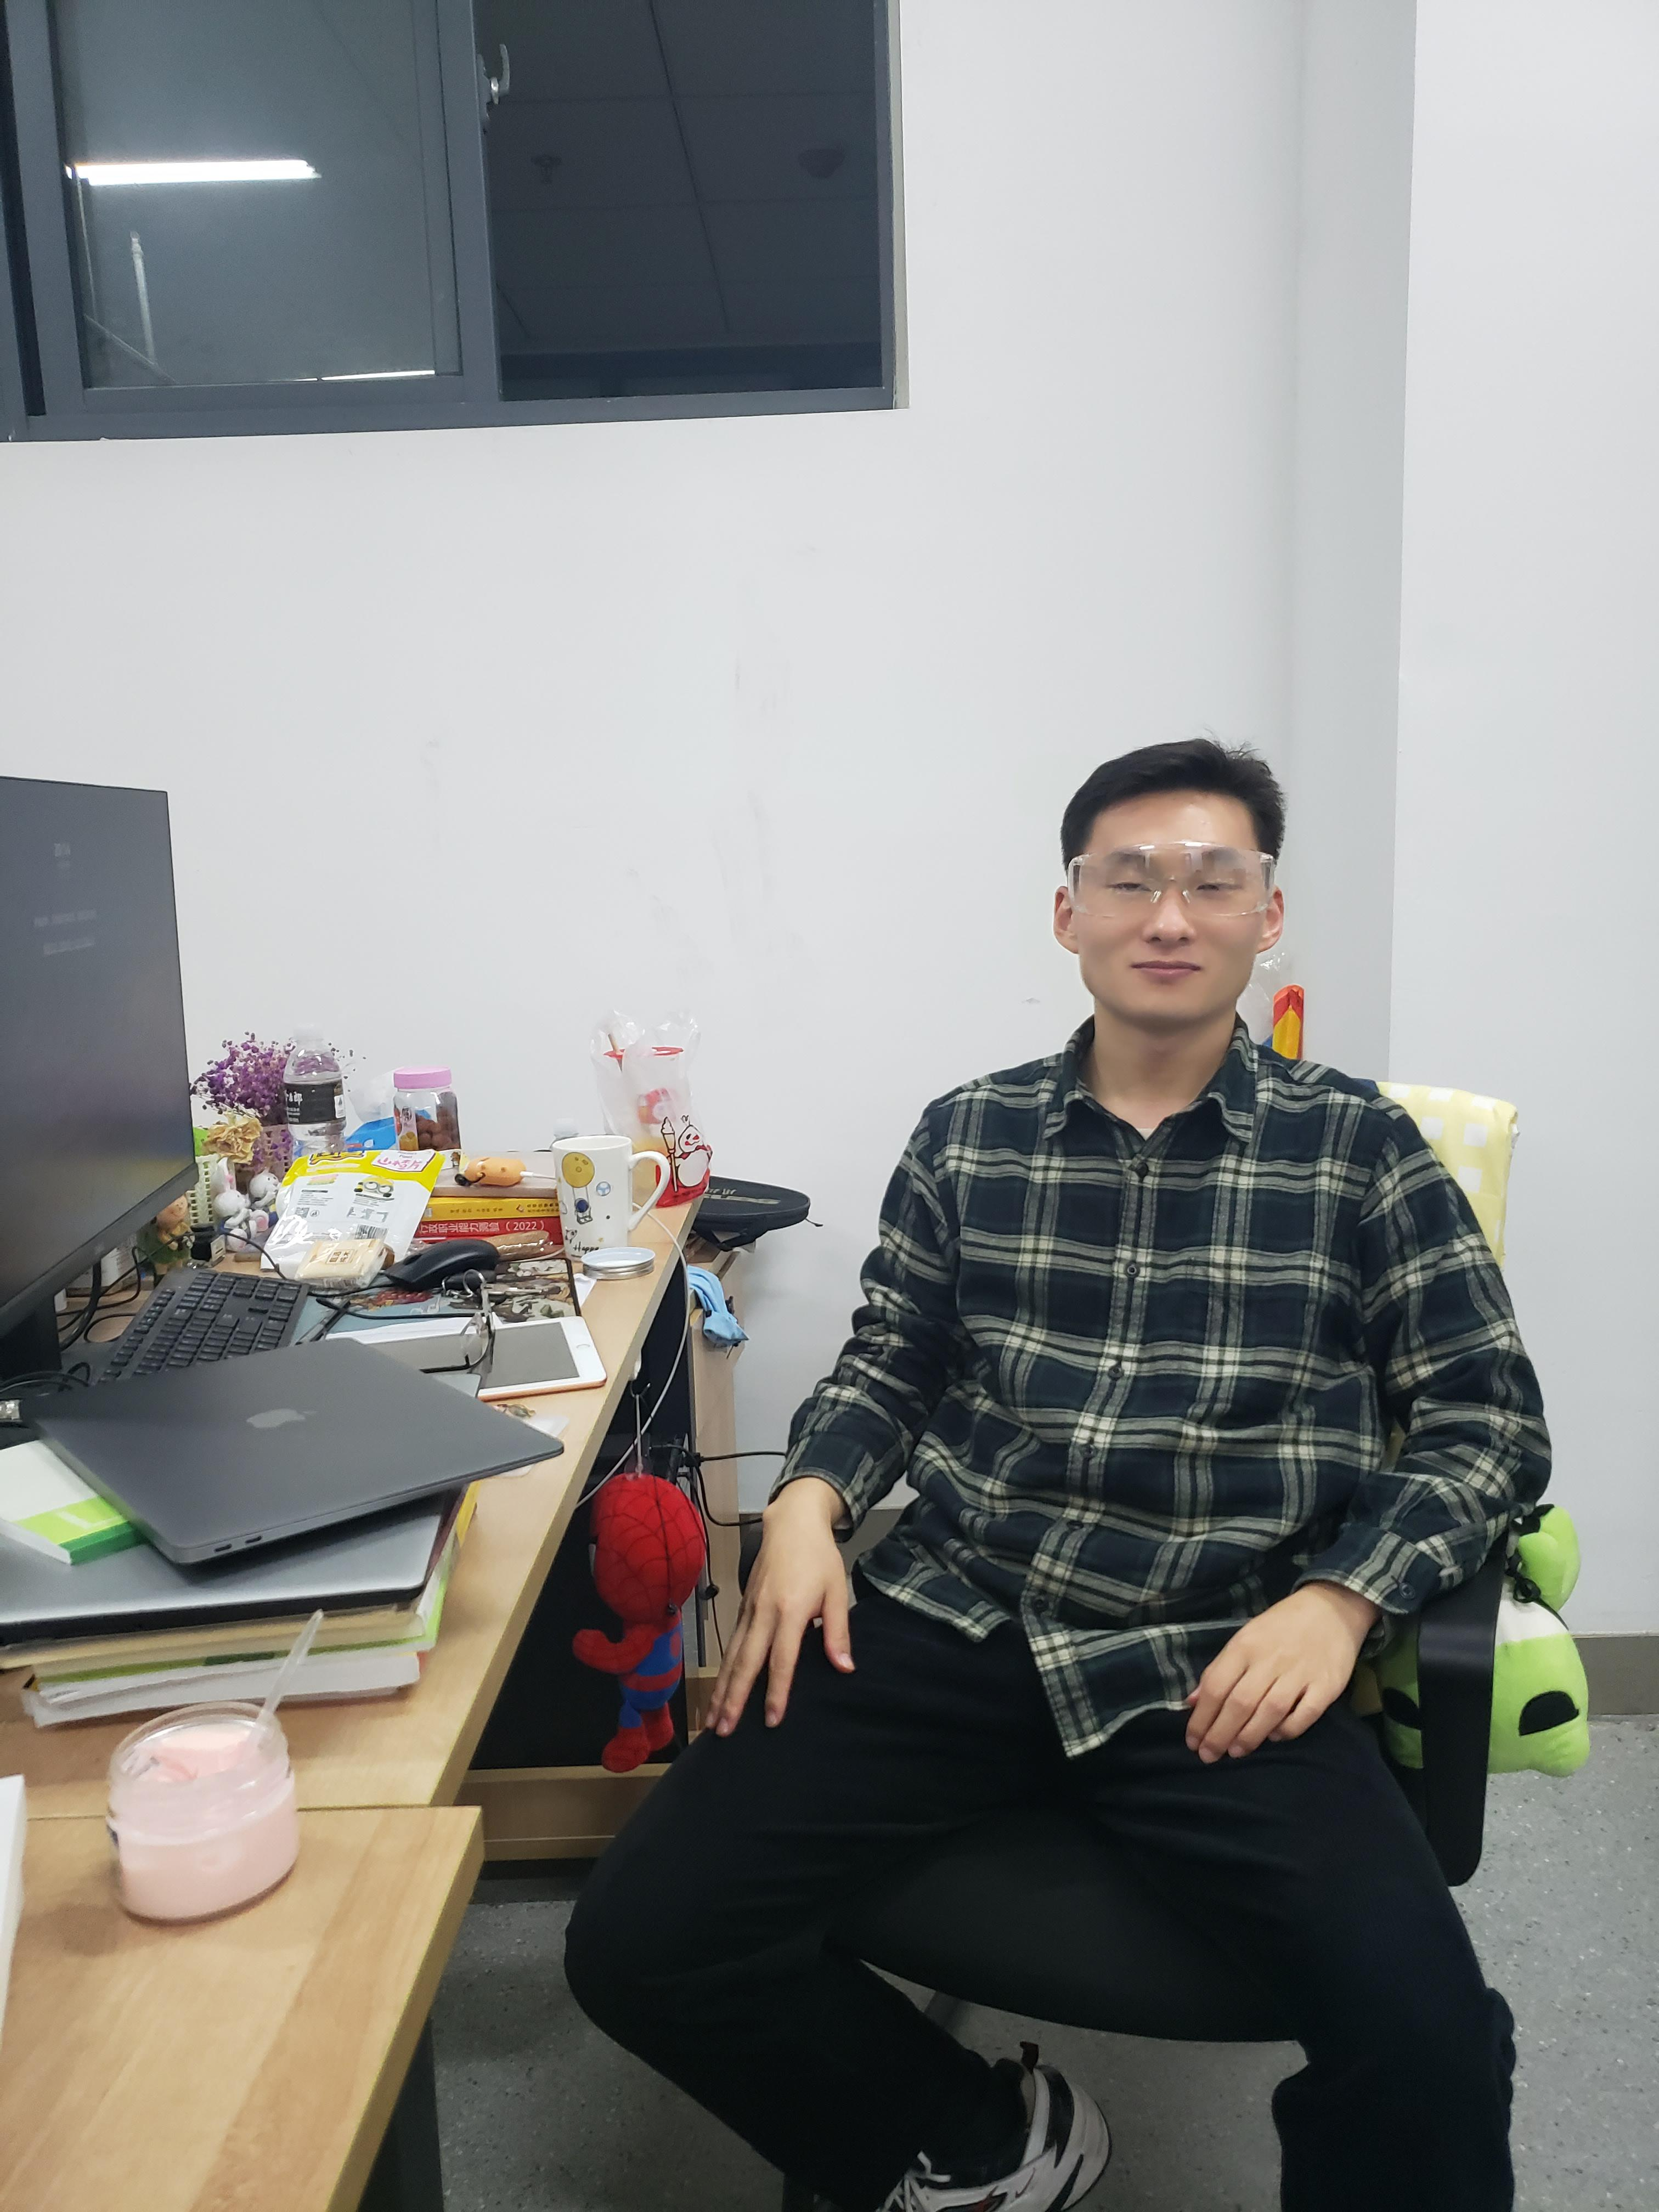glasses: (1053, 841, 1288, 934)
